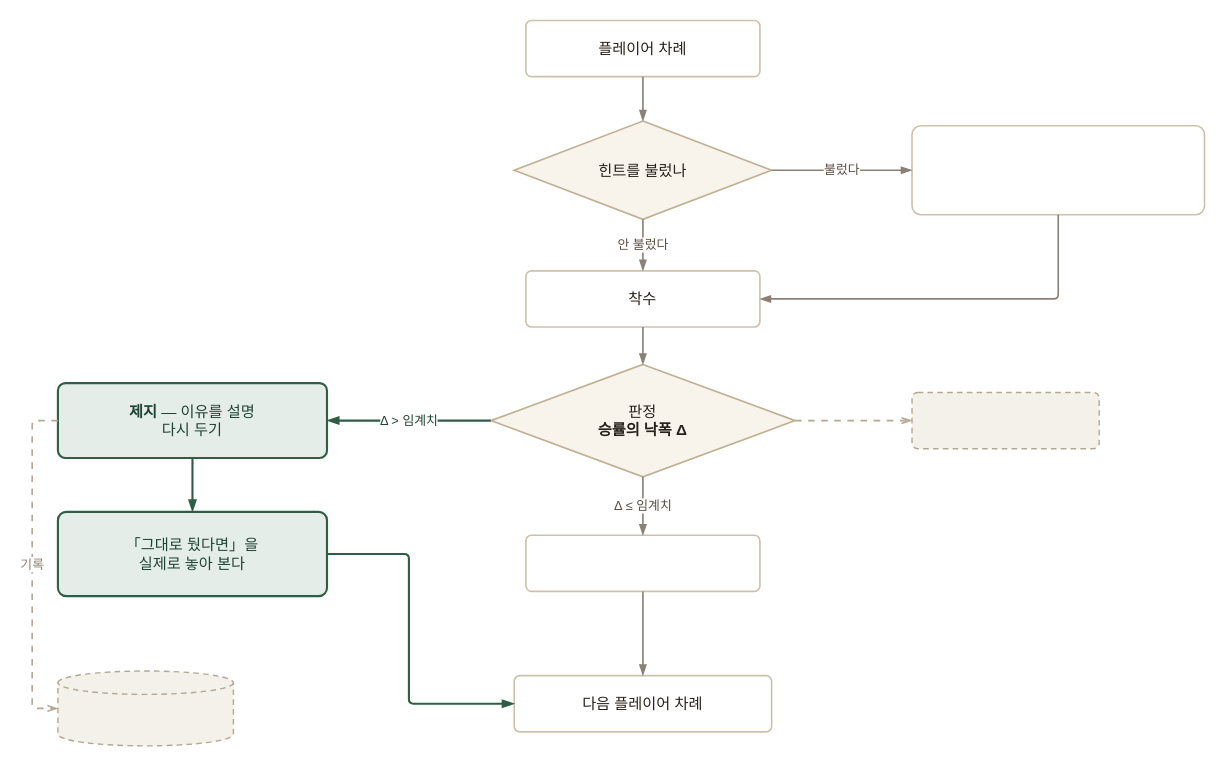
Some shapes in this 1225 by 768 pixel diagram are drawn without their labels. Here are the shapes that lost their labels. From the top down, the centre of each, then its label:
the point at 1058,169: 1회째: 駒만 2회째: 手를 짚는다 판당 6회까지
the point at 1005,420: 실력 추정
the point at 642,563: 상대의 手
the point at 145,708: 개입 로그
